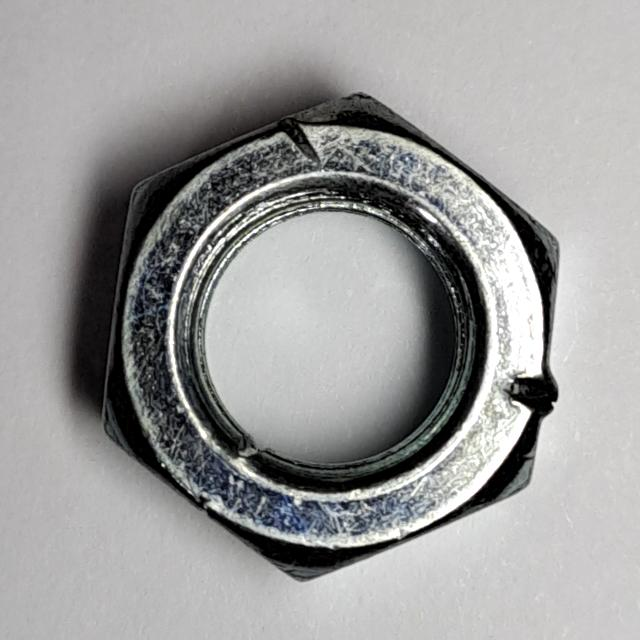Scratches: (93, 79, 572, 597)
